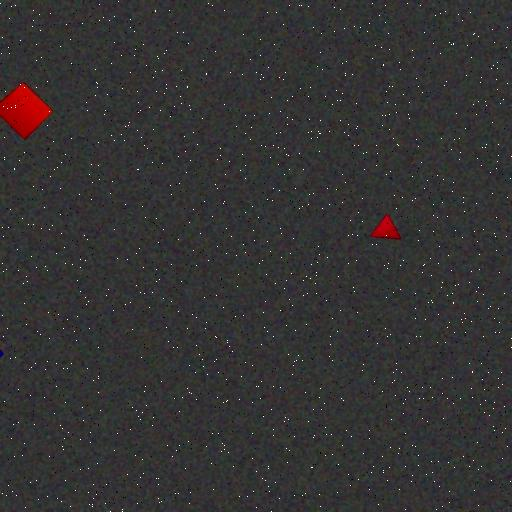RED_SQUARE: (0, 82, 54, 140)
